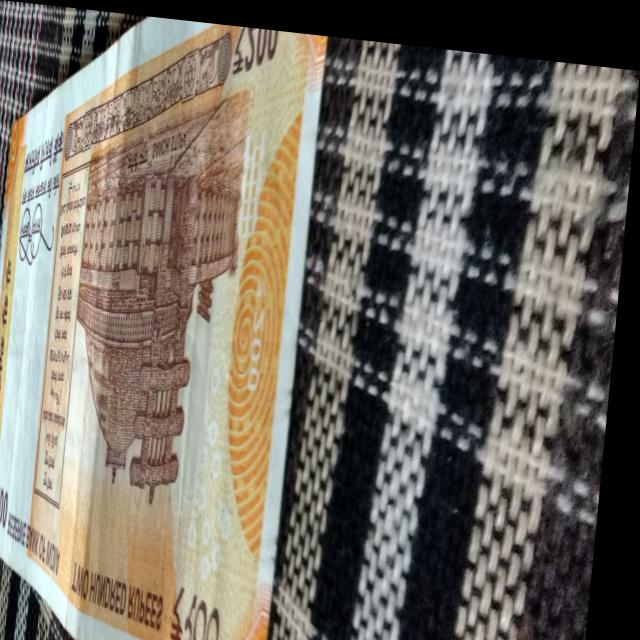Currency: (0, 67, 330, 640)
